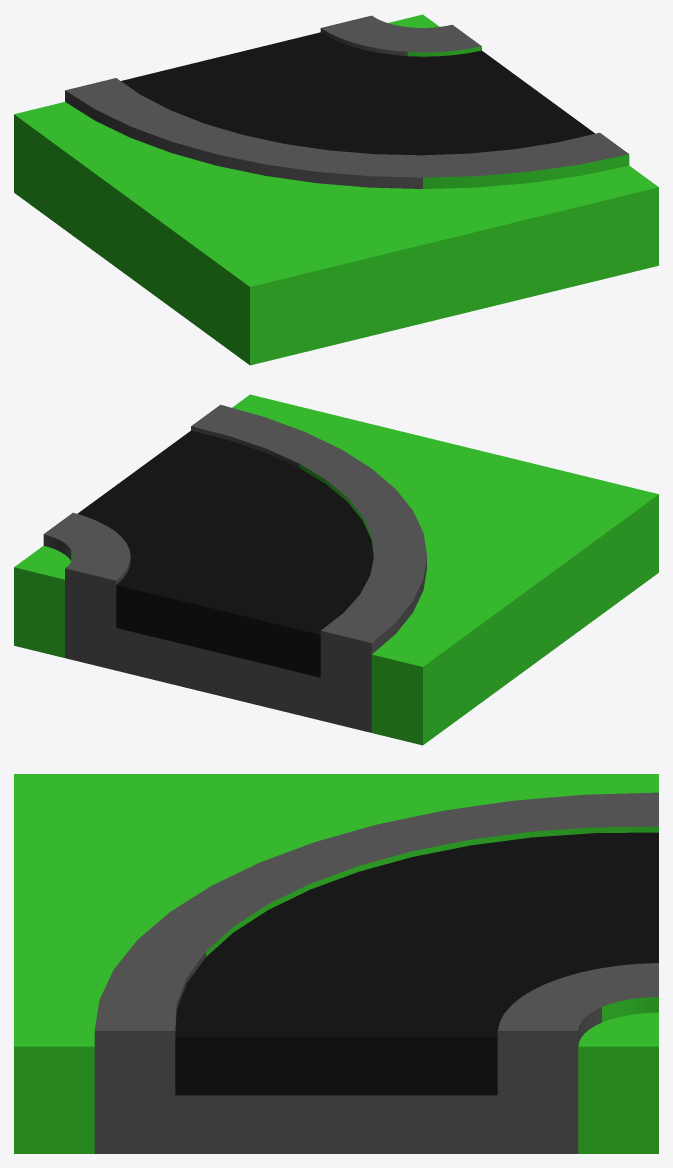
The model's file is cornerTwo.obj.
3 renders of one model, top to bottom at view 1: azimuth 30°, elevation 25°; view 2: azimuth 150°, elevation 25°; view 3: azimuth 270°, elevation 25°, orthographic. The views are drawn at different scales.
Parts seen in each view (by area): view 1: Corner; view 2: Corner; view 3: Corner.
Part boxes in pixels (x1,y1,x2,y2): Corner: (14, 14, 658, 365); Corner: (14, 394, 658, 745); Corner: (14, 774, 658, 1153).
Size of the model in its own units: 3 by 0.63 by 3.
